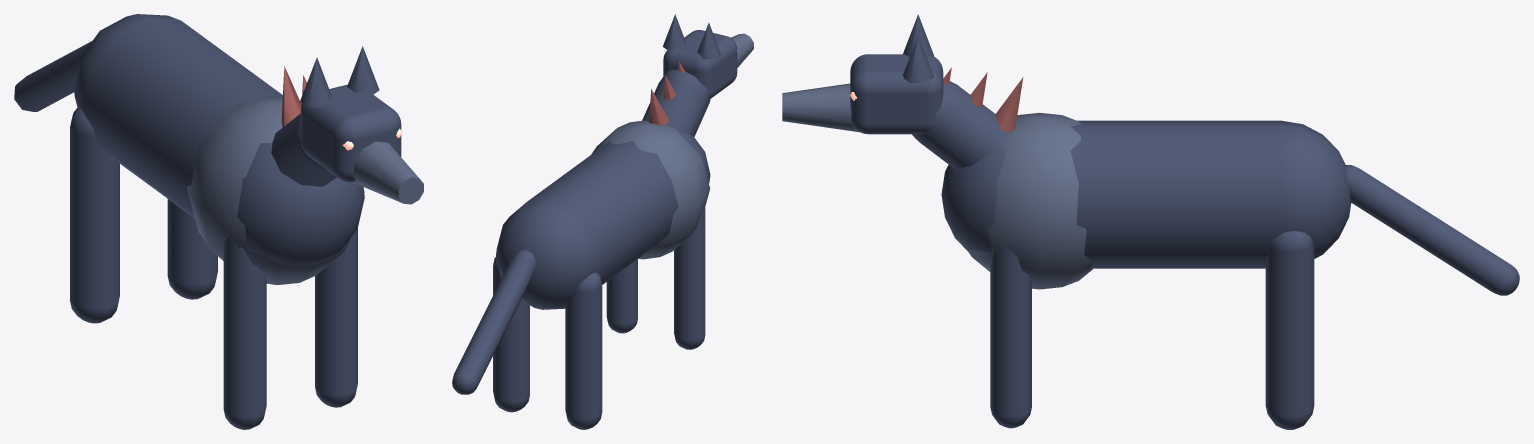
File: alpha_wolf.glb
The picture shows the model from 3 angles, left to right: view 1: azimuth 30°, elevation 25°; view 2: azimuth 150°, elevation 25°; view 3: azimuth 270°, elevation 25°; orthographic projection. The views are drawn at different scales.
Visible parts, largest first — view 1: mesh; view 2: mesh; view 3: mesh.
Part boxes in pixels (x1,y1,x2,y2): mesh: [14, 14, 423, 429]; mesh: [452, 14, 753, 429]; mesh: [782, 14, 1519, 429].
Size of the model in its own units: 0.69 by 1.76 by 3.09.
